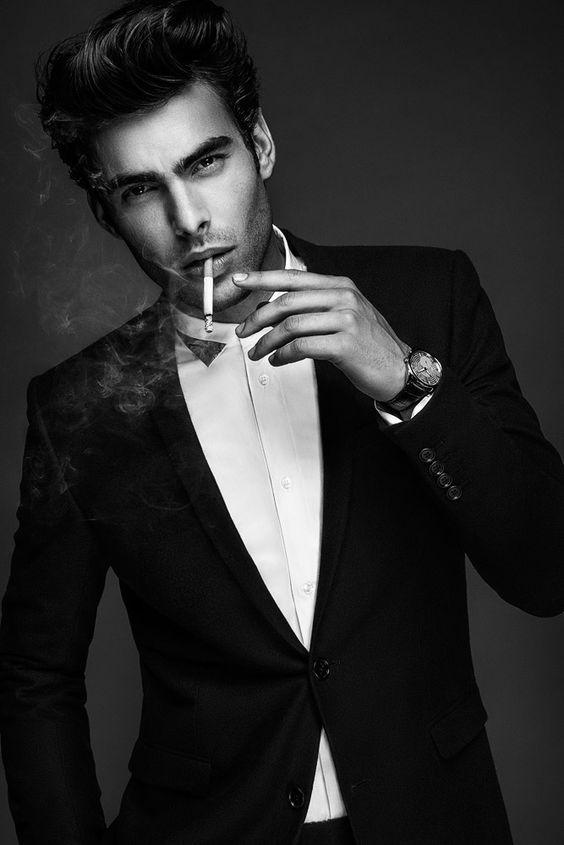cigarette: (203, 257, 213, 333)
